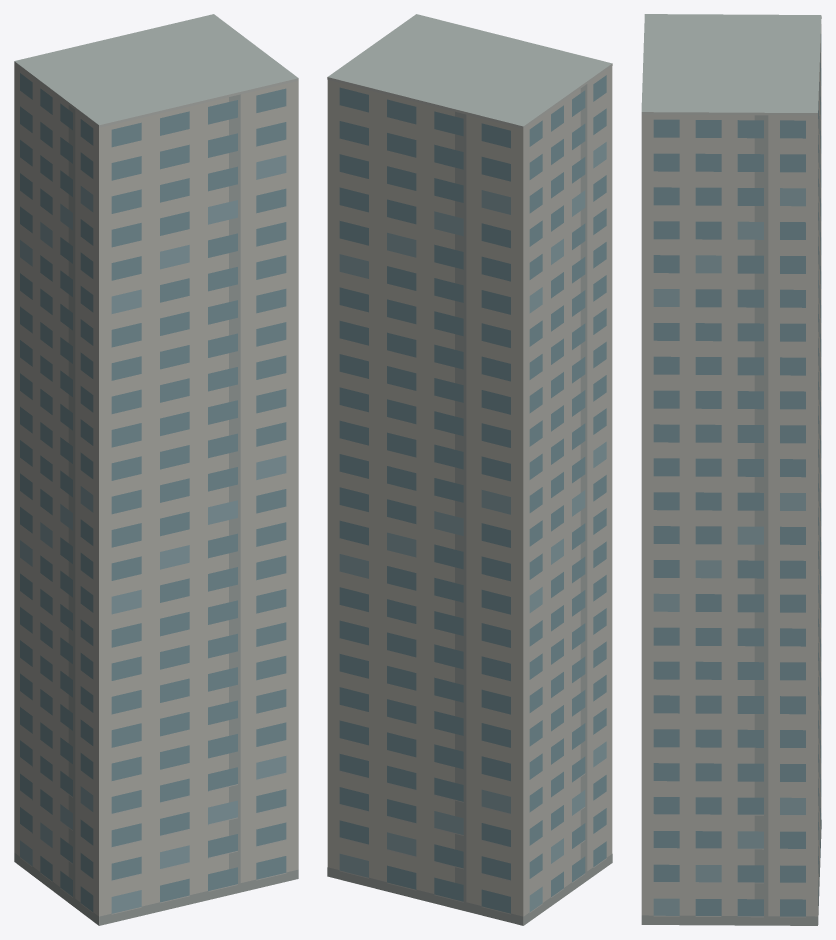
Rendered from residential-08ea0eca-bc96-44ce-b0d9-d0f246f1383e.glb.
3 renders of one model, left to right at view 1: azimuth 30°, elevation 25°; view 2: azimuth 150°, elevation 25°; view 3: azimuth 270°, elevation 25°, orthographic.
Parts seen in each view (by area): view 1: residential-08ea0eca-bc96-44ce-b0d9-d0f246f1383e.tmp; view 2: residential-08ea0eca-bc96-44ce-b0d9-d0f246f1383e.tmp; view 3: residential-08ea0eca-bc96-44ce-b0d9-d0f246f1383e.tmp.
Boxes of the visible parts, <box> form: residential-08ea0eca-bc96-44ce-b0d9-d0f246f1383e.tmp: <box>14,14,298,925</box>; residential-08ea0eca-bc96-44ce-b0d9-d0f246f1383e.tmp: <box>327,14,612,925</box>; residential-08ea0eca-bc96-44ce-b0d9-d0f246f1383e.tmp: <box>641,14,821,925</box>.
Size of the model in its own units: 20.67 by 79 by 15.86.
